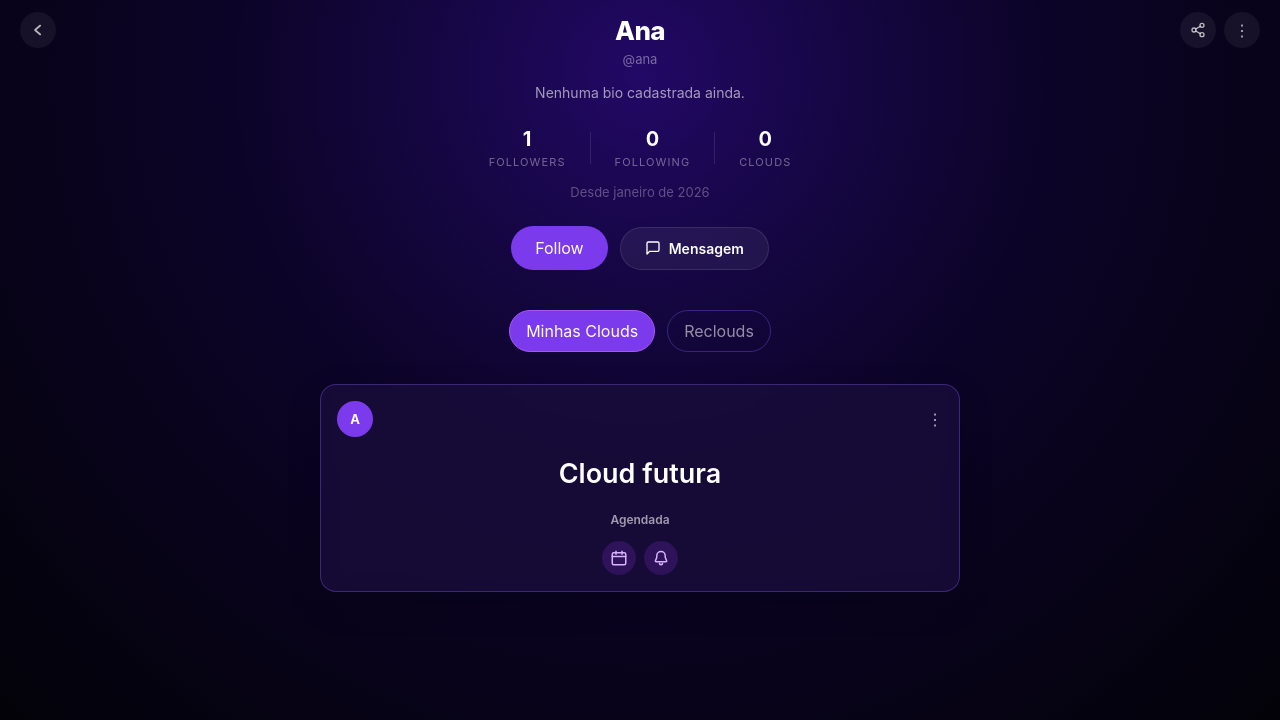
it: profile follow counters › shows scheduled Clouds with calendar and reminder on another profile
This screenshot has width=1280, height=720.
(page scrolled)
Check: the text "Agendada" is shown, box [610,512,670,527]
Click the button named "Ver data de estreia".
click(619, 558)  # box [602,541,636,575]
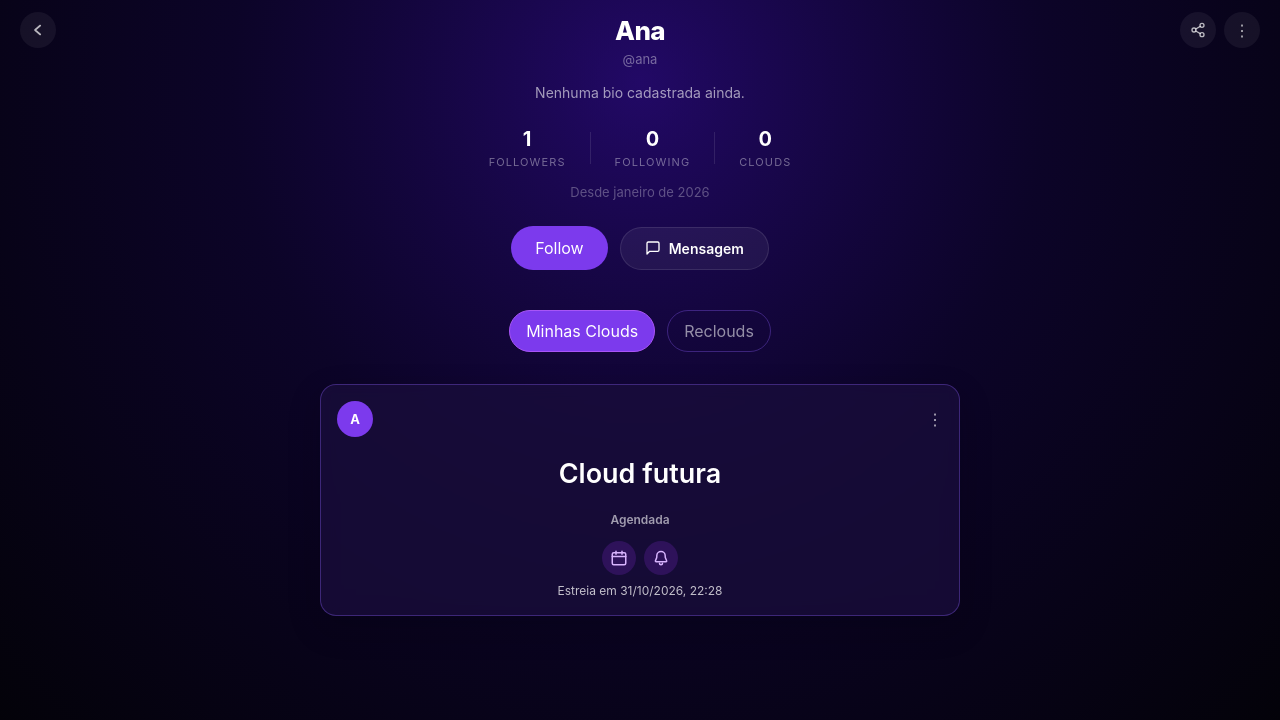
Check: the text "Estreia em 31/10/2026, 22:28" is shown, box [558,583,722,599]
Click the button named "Avisar-me na estreia".
click(661, 558)  # box [644,541,678,575]
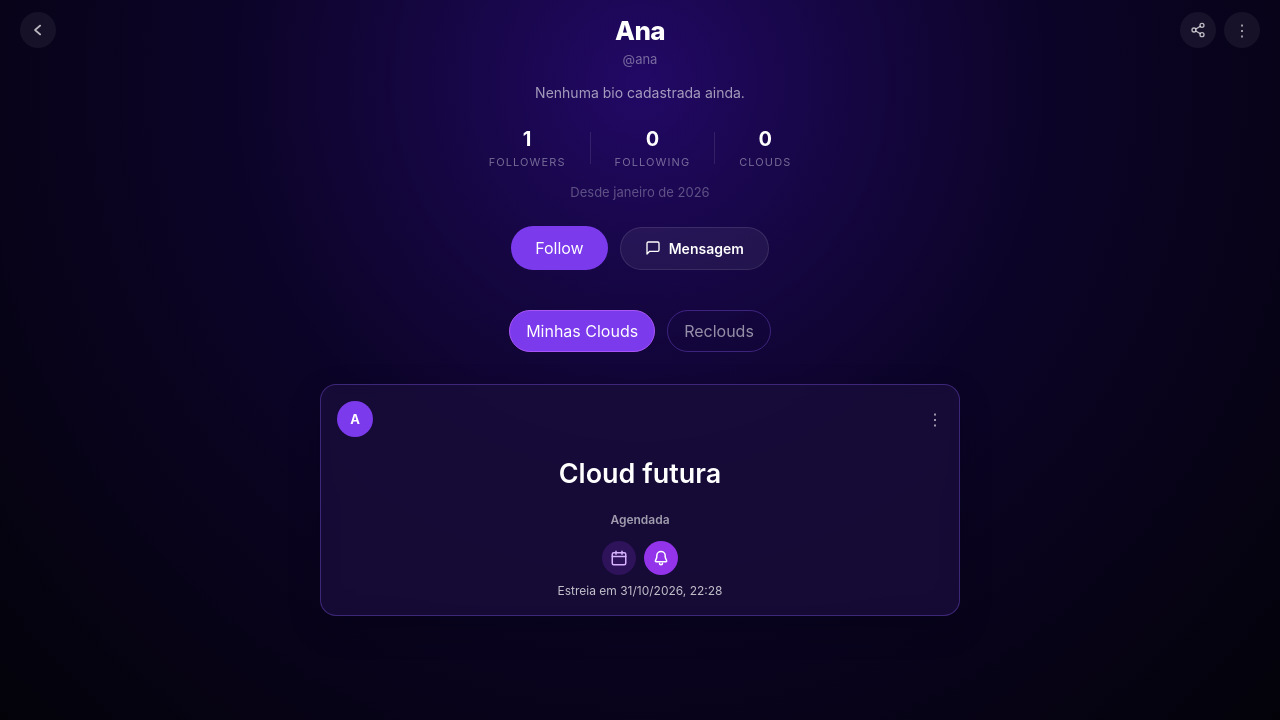
Check: the button named "Lembrete ativado" is disabled, box [644,541,678,575]
